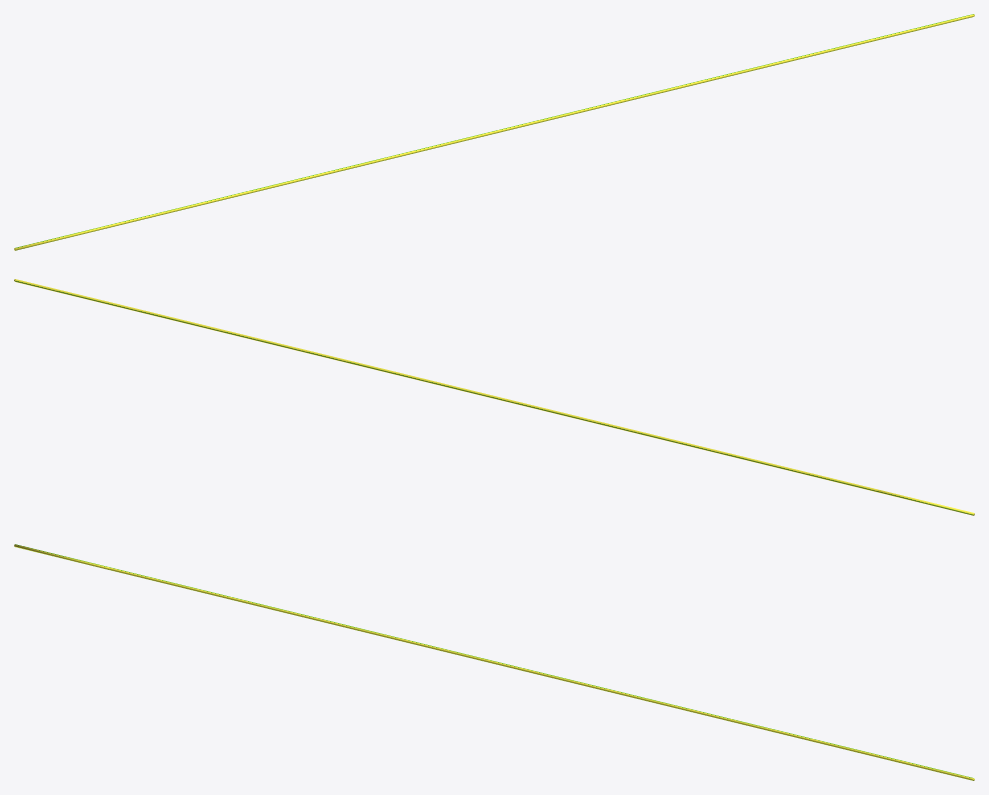
File: sweethome3d-scopia-electric-wire-1m.glb
The picture shows the model from 3 angles, top to bottom: view 1: azimuth 30°, elevation 25°; view 2: azimuth 150°, elevation 25°; view 3: azimuth 330°, elevation 25°; orthographic projection.
Size of the model in its own units: 100 by 0.3 by 0.3.
1 material, 1 textured.
